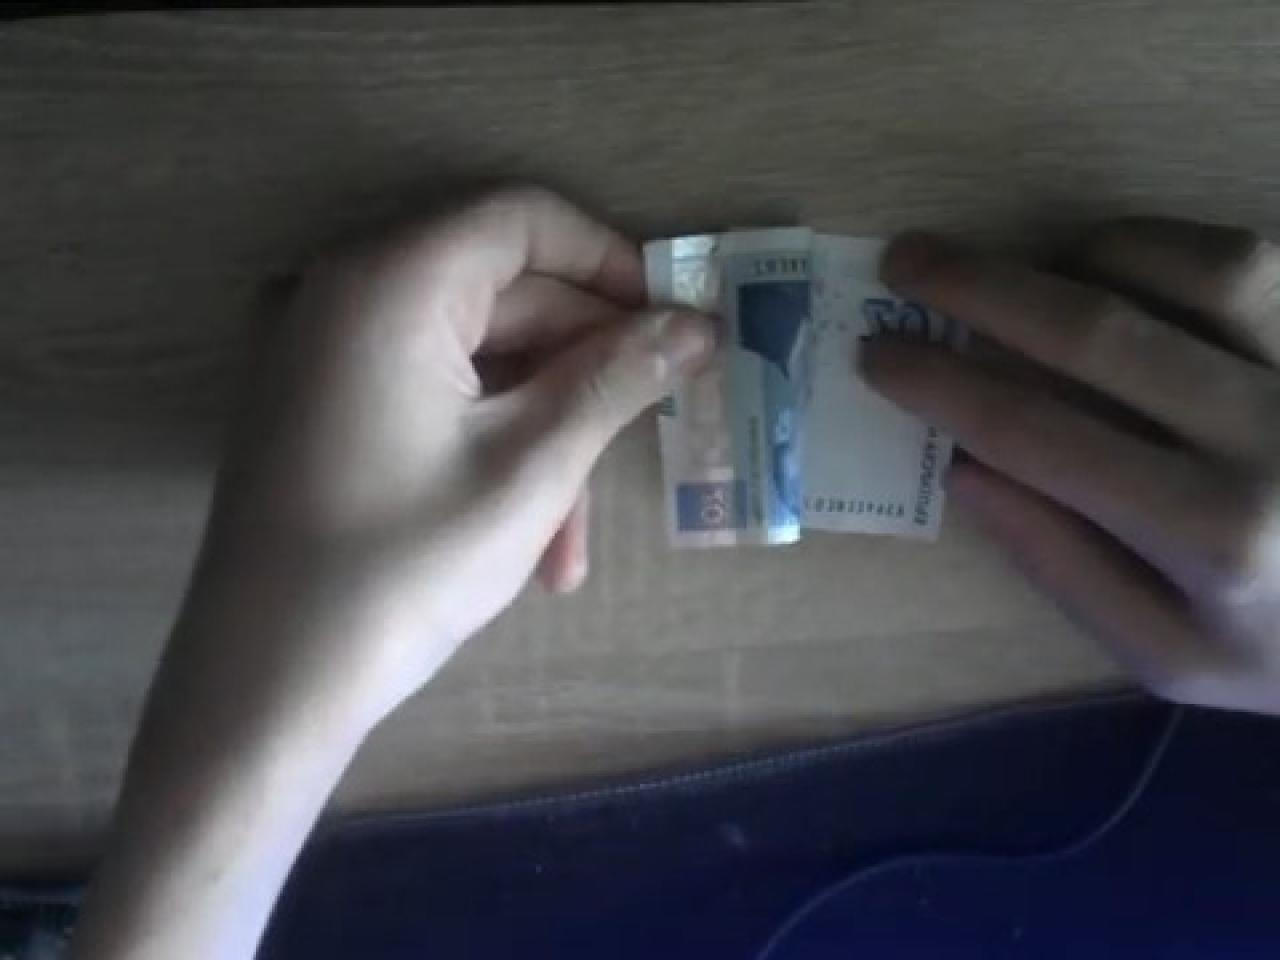20leva: (635, 224, 977, 555)
